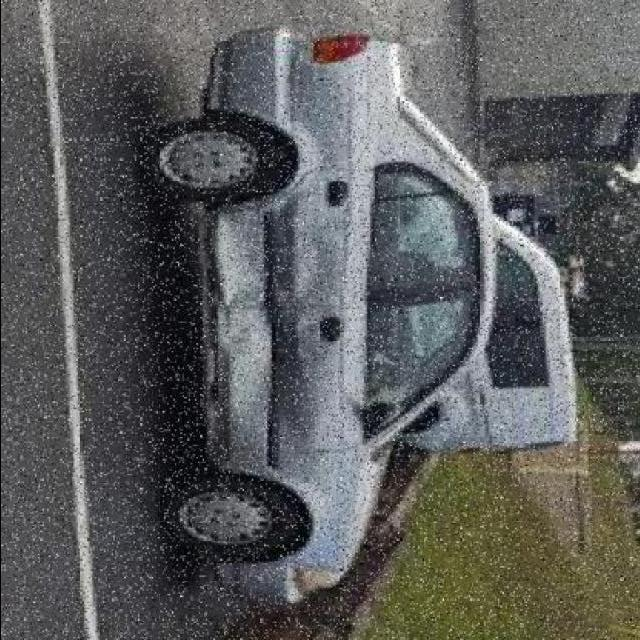RunningBoard-Dent: (198, 311, 229, 448), (190, 208, 217, 312)
doorouter-dent: (221, 308, 377, 452), (222, 168, 375, 307)
